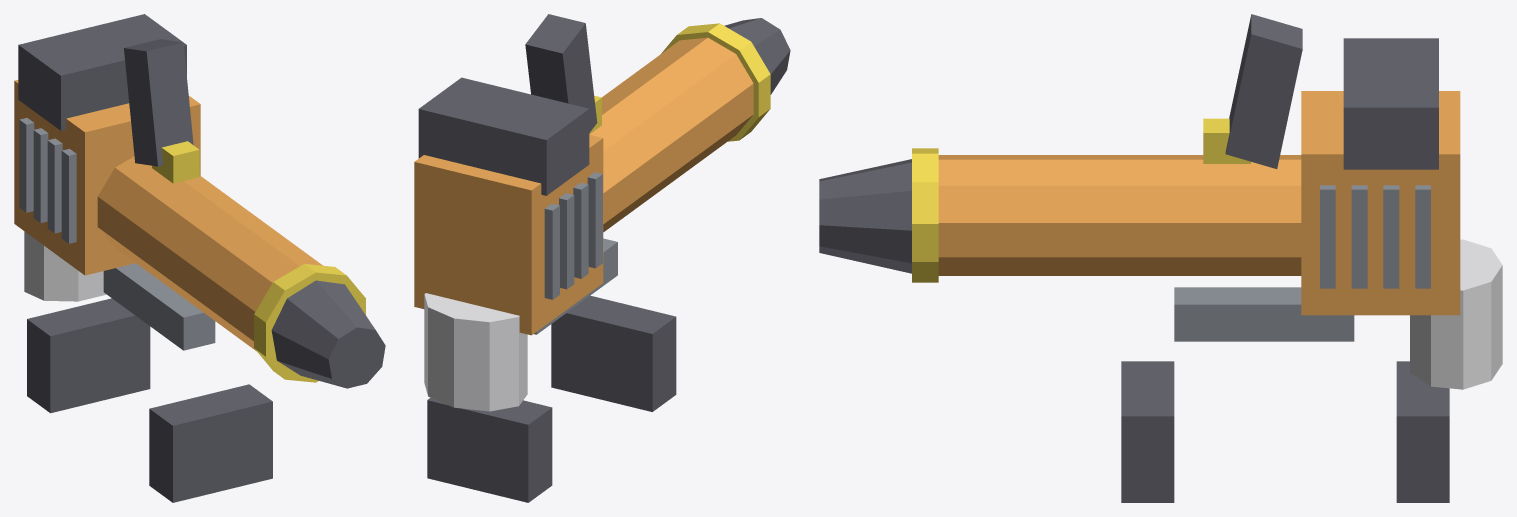
The model's file is leaf_blower.glb.
The picture shows the model from 3 angles, left to right: view 1: azimuth 30°, elevation 25°; view 2: azimuth 150°, elevation 25°; view 3: azimuth 270°, elevation 25°; orthographic projection. The views are drawn at different scales.
Visible parts, largest first — view 1: leaf_blower; view 2: leaf_blower; view 3: leaf_blower.
Part boxes in pixels (bbox=[...]): leaf_blower: bbox=[14, 14, 385, 502]; leaf_blower: bbox=[414, 14, 790, 502]; leaf_blower: bbox=[819, 14, 1502, 502].
Bounding box in the file's own units: 0.25 × 0.7291 × 1.
